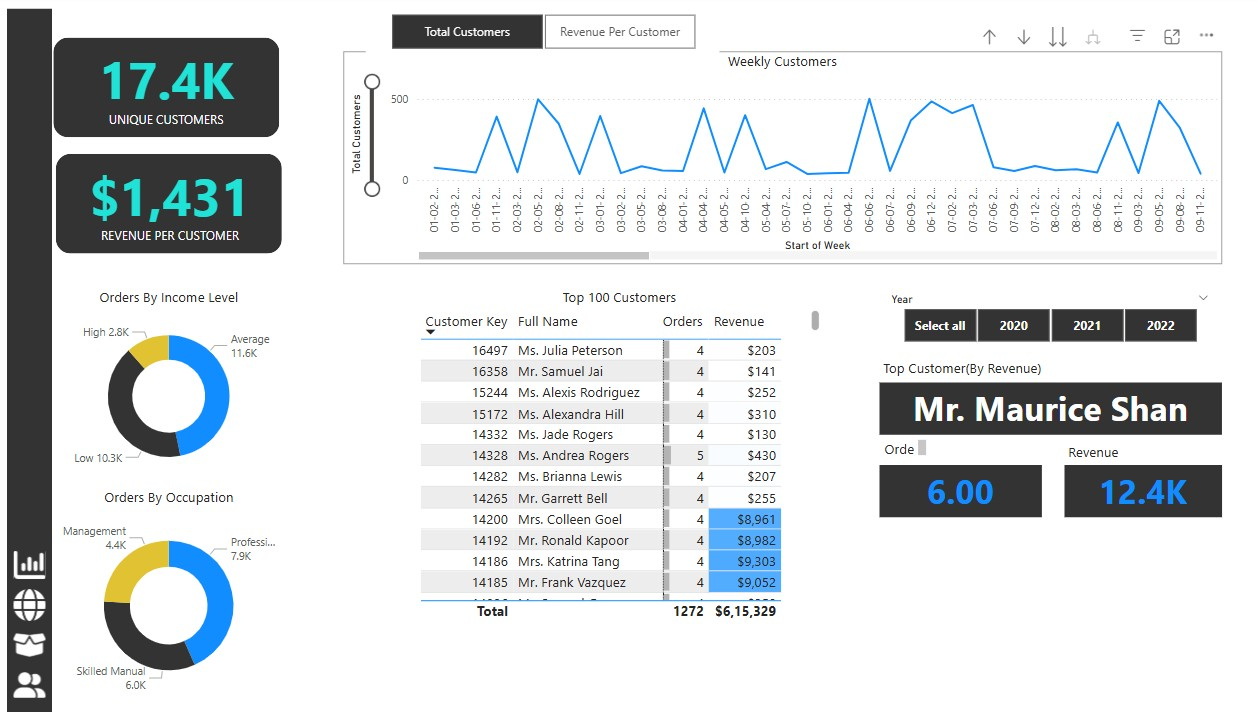

What the dashboard file says about the page in this screenshot:
{"tool":"powerbi","page":{"name":"Customer Detail","canvas":[1280,720],"ordinal":3},"visuals":[{"type":"actionButton","box":[12.8,547.3,51,39.8],"z":0,"group":"g1"},{"type":"shape","box":[55.8,42.5,225.2,99.5],"z":0},{"type":"actionButton","box":[12.8,587.1,51,39.8],"z":1000,"group":"g1"},{"type":"shape","box":[58.7,158,225.2,99.5],"z":1000},{"type":"card","fields":{"Values":["Measure Table.Total Customers"]},"box":[62.9,40.1,210.2,102],"z":2000},{"type":"actionButton","box":[12.8,626.9,51,39.8],"z":2000,"group":"g1"},{"type":"actionButton","box":[12.8,666.7,51,39.8],"z":3000,"group":"g1"},{"type":"card","fields":{"Values":["Measure Table.Average Revenue Per Customer"]},"box":[66.9,155.5,210.2,102],"z":3000},{"type":"lineChart","title":"Weekly Customers","fields":{"Y":["Measure Table.Total Customers"],"Category":["Calendar Lookup.Date Hierarchy.Start of Year","Calendar Lookup.Date Hierarchy.Start of Month","Calendar Lookup.Date Hierarchy.Start of Week","Calendar Lookup.Date Hierarchy.Date"]},"box":[344.8,56.3,874.3,212.1],"z":4000},{"type":"donutChart","title":"Orders By Income Level","fields":{"Category":["Customer Lookup.Income Level"],"Y":["Measure Table.Total Orders"]},"box":[58.5,291.1,225.2,199],"z":5000},{"type":"donutChart","title":"Orders By Occupation","fields":{"Y":["Measure Table.Total Orders"],"Category":["Customer Lookup.Occupation"]},"box":[58.5,490.1,225.2,217.7],"z":6000},{"type":"tableEx","title":"Top 100 Customers","fields":{"Values":["Customer Lookup.CustomerKey","Customer Lookup.Full Name","Measure Table.Total Orders","Measure Table.Total Revenue"]},"box":[415.5,291.1,408,337.1],"z":7000},{"type":"card","fields":{"Values":["Measure Table.Full Name (Customer Detail)"]},"box":[878.2,385.9,340.8,52.2],"z":8000},{"type":"card","fields":{"Values":["Measure Table.Total Orders (Customer Detail)"]},"box":[878.2,468.2,161.7,52.2],"z":9000},{"type":"card","fields":{"Values":["Measure Table.Total Revenue (Customer Detail)"]},"box":[1062.3,468.2,156.7,52.2],"z":10000},{"type":"textbox","box":[877,357.3,227.6,29.9],"z":11000},{"type":"textbox","box":[878.2,438.1,51,29.9],"z":12000},{"type":"textbox","box":[1061.1,440.6,69.7,29.9],"z":13000},{"type":"slicer","fields":{"Values":["Calendar Lookup.Year"]},"box":[877,291.1,340.8,61],"z":14000},{"type":"shape","box":[10,13.4,44.8,706.6],"z":15000},{"type":"group","id":"g1","title":"Navigation Buttons","box":[12.8,547.3,51,159.2],"z":16000},{"type":"slicer","fields":{"Values":["Customer Metric Selection.Customer Metric Selection"]},"box":[366.5,13,352,47.6],"z":17000}]}

Visuals, with their boxes on the page's 1280x720 design canvas (x1, y1, x2, y2). These are canvas units, not pixel positions in the 1257x712 screenshot, which may show the page scaled, cropped or inside an application window:
actionButton: <region>13, 547, 64, 587</region>
shape: <region>56, 42, 281, 142</region>
actionButton: <region>13, 587, 64, 627</region>
shape: <region>59, 158, 284, 258</region>
card - Measure Table.Total Customers: <region>63, 40, 273, 142</region>
actionButton: <region>13, 627, 64, 667</region>
actionButton: <region>13, 667, 64, 706</region>
card - Measure Table.Average Revenue Per Customer: <region>67, 156, 277, 258</region>
"Weekly Customers" lineChart: <region>345, 56, 1219, 268</region>
"Orders By Income Level" donutChart: <region>58, 291, 284, 490</region>
"Orders By Occupation" donutChart: <region>58, 490, 284, 708</region>
"Top 100 Customers" tableEx: <region>416, 291, 824, 628</region>
card - Measure Table.Full Name (Customer Detail): <region>878, 386, 1219, 438</region>
card - Measure Table.Total Orders (Customer Detail): <region>878, 468, 1040, 520</region>
card - Measure Table.Total Revenue (Customer Detail): <region>1062, 468, 1219, 520</region>
textbox: <region>877, 357, 1105, 387</region>
textbox: <region>878, 438, 929, 468</region>
textbox: <region>1061, 441, 1131, 470</region>
slicer - Calendar Lookup.Year: <region>877, 291, 1218, 352</region>
shape: <region>10, 13, 55, 720</region>
"Navigation Buttons" group: <region>13, 547, 64, 706</region>
slicer - Customer Metric Selection.Customer Metric Selection: <region>366, 13, 718, 61</region>
